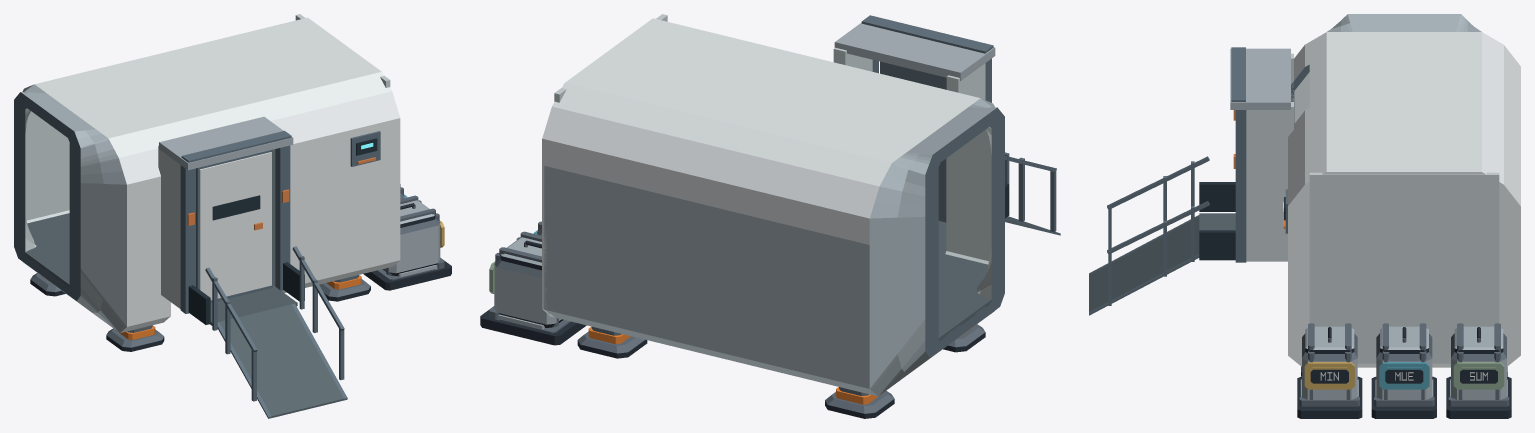
Rendered from sto_l01_transitable.glb.
3 views of the same model, side by side, from view 1: azimuth 30°, elevation 25°; view 2: azimuth 150°, elevation 25°; view 3: azimuth 270°, elevation 25° (orthographic). The views are drawn at different scales.
Parts seen in each view (by area): view 1: STO_L01_TR_CASCO_FRENTE, STO_L01_TR_CASCO_CUPULA, STO_L01_TR_HOJA, STO_L01_TR_CUELLO_FRENTE, STO_L01_TR_JAMBAS_Y_MARCO, STO_L01_TR_RAMPA_ACCESO, STO_L01_TR_CASCO_BASE, STO_L01_TR_DINTEL, STO_L01_TR_PISO_CONTINUO, STO_L01_TR_CONTENEDOR_01_CHASIS, STO_L01_TR_CUELLO_CUPULA, STO_L01_TR_BARANDILLAS (+7 smaller); view 2: STO_L01_TR_CASCO_BASE, STO_L01_TR_CASCO_DORSO, STO_L01_TR_CASCO_CUPULA, STO_L01_TR_CUELLO_BASE, STO_L01_TR_DINTEL, STO_L01_TR_CASCO_FRENTE, STO_L01_TR_CUELLO_DORSO, STO_L01_TR_CONTENEDOR_03_CHASIS, STO_L01_TR_BASTIDOR_ZAPATAS, STO_L01_TR_PISO_CONTINUO, STO_L01_TR_CUELLO_CUPULA, STO_L01_TR_CUELLO_FRENTE (+5 smaller); view 3: STO_L01_TR_TESTERO_CERRADO, STO_L01_TR_CASCO_CUPULA, STO_L01_TR_JAMBAS_Y_MARCO, STO_L01_TR_CASCO_DORSO, STO_L01_TR_CUNAS_CONTENEDORES, STO_L01_TR_RAMPA_ACCESO, STO_L01_TR_DINTEL, STO_L01_TR_CONTENEDOR_02_CHASIS, STO_L01_TR_CONTENEDOR_03_CHASIS, STO_L01_TR_CONTENEDOR_01_CHASIS, STO_L01_TR_BARANDILLAS, STO_L01_TR_CUELLO_CUPULA (+6 smaller).
Part boxes in pixels (x1,y1,x2,y2): STO_L01_TR_CASCO_FRENTE: (117,88,398,332); STO_L01_TR_CASCO_CUPULA: (43,24,385,153); STO_L01_TR_HOJA: (196,149,272,302); STO_L01_TR_CUELLO_FRENTE: (69,154,126,332); STO_L01_TR_JAMBAS_Y_MARCO: (158,145,304,324); STO_L01_TR_RAMPA_ACCESO: (217,303,347,418); STO_L01_TR_CASCO_BASE: (25,121,69,223); STO_L01_TR_DINTEL: (159,116,293,170); STO_L01_TR_PISO_CONTINUO: (25,213,297,325); STO_L01_TR_CONTENEDOR_01_CHASIS: (383,195,440,276); STO_L01_TR_CUELLO_CUPULA: (18,90,116,165); STO_L01_TR_BARANDILLAS: (205,246,344,401); STO_L01_TR_CASCO_BASE: (544,166,877,396); STO_L01_TR_CASCO_DORSO: (544,76,901,244); STO_L01_TR_CASCO_CUPULA: (577,19,980,155); STO_L01_TR_CUELLO_BASE: (869,223,993,396); STO_L01_TR_DINTEL: (834,15,995,80); STO_L01_TR_CASCO_FRENTE: (945,129,991,264); STO_L01_TR_CUELLO_DORSO: (869,155,938,244); STO_L01_TR_CONTENEDOR_03_CHASIS: (494,231,563,327); STO_L01_TR_BASTIDOR_ZAPATAS: (577,324,985,418); STO_L01_TR_PISO_CONTINUO: (938,221,991,340); STO_L01_TR_CUELLO_CUPULA: (903,98,1004,170); STO_L01_TR_CUELLO_FRENTE: (976,102,1004,323); STO_L01_TR_TESTERO_CERRADO: (1288,170,1520,367); STO_L01_TR_CASCO_CUPULA: (1309,32,1463,173); STO_L01_TR_JAMBAS_Y_MARCO: (1199,53,1293,262); STO_L01_TR_CASCO_DORSO: (1463,32,1520,204); STO_L01_TR_CUNAS_CONTENEDORES: (1297,376,1511,418); STO_L01_TR_RAMPA_ACCESO: (1089,215,1199,315); STO_L01_TR_DINTEL: (1230,47,1290,109); STO_L01_TR_CONTENEDOR_02_CHASIS: (1376,323,1432,399); STO_L01_TR_CONTENEDOR_03_CHASIS: (1451,323,1506,399); STO_L01_TR_CONTENEDOR_01_CHASIS: (1302,323,1357,399); STO_L01_TR_BARANDILLAS: (1107,156,1209,305); STO_L01_TR_CUELLO_CUPULA: (1327,14,1465,31).
Bounding box in the file's own units: 5.54 × 3.2 × 5.56.
